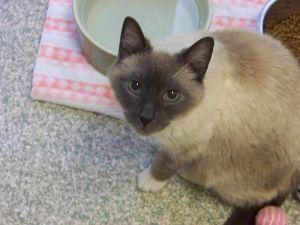siamese: (103, 12, 222, 151)
